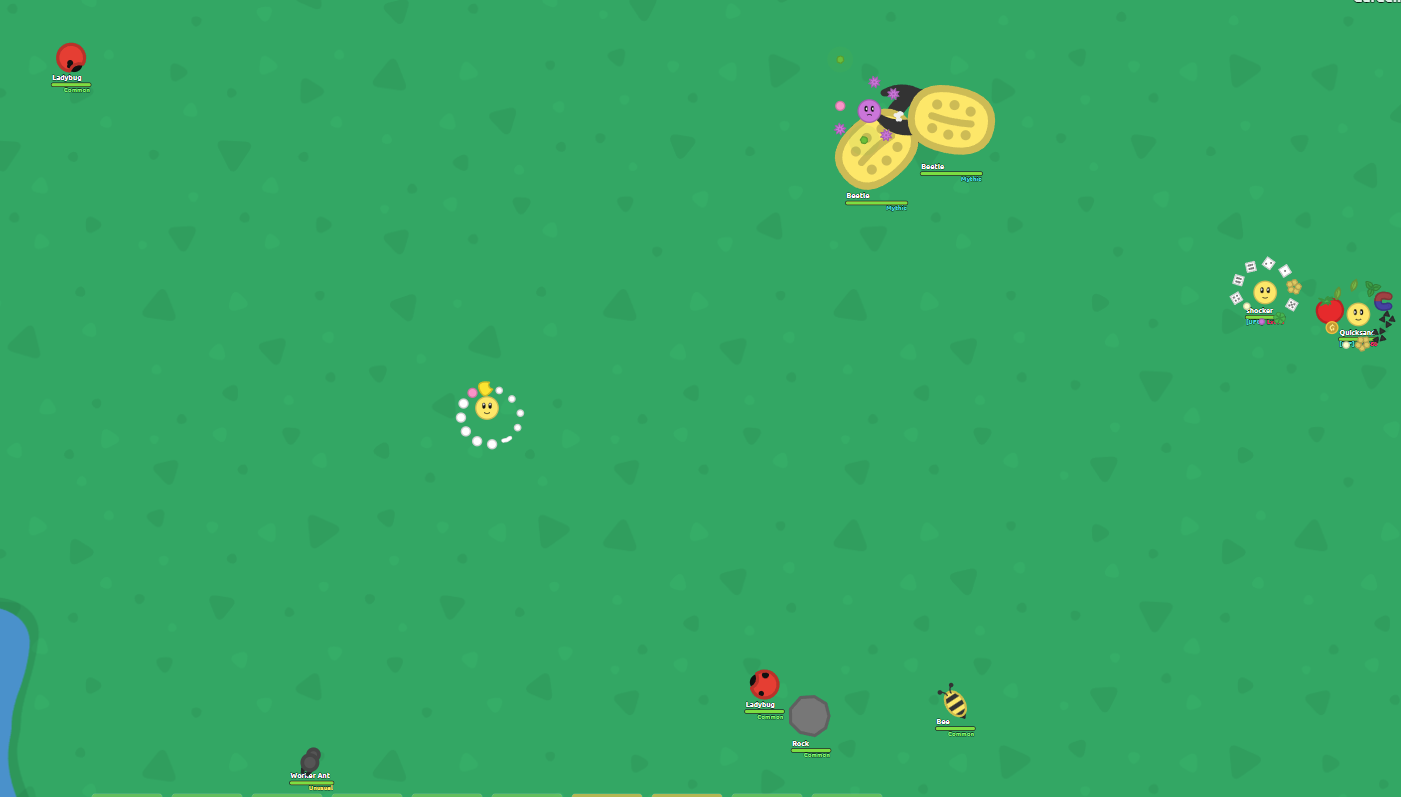Bee: (942, 691, 968, 720)
Ladybug: (55, 41, 88, 75), (748, 668, 780, 702)
Rock: (788, 696, 831, 738)
Worker Ant: (299, 747, 322, 778)
